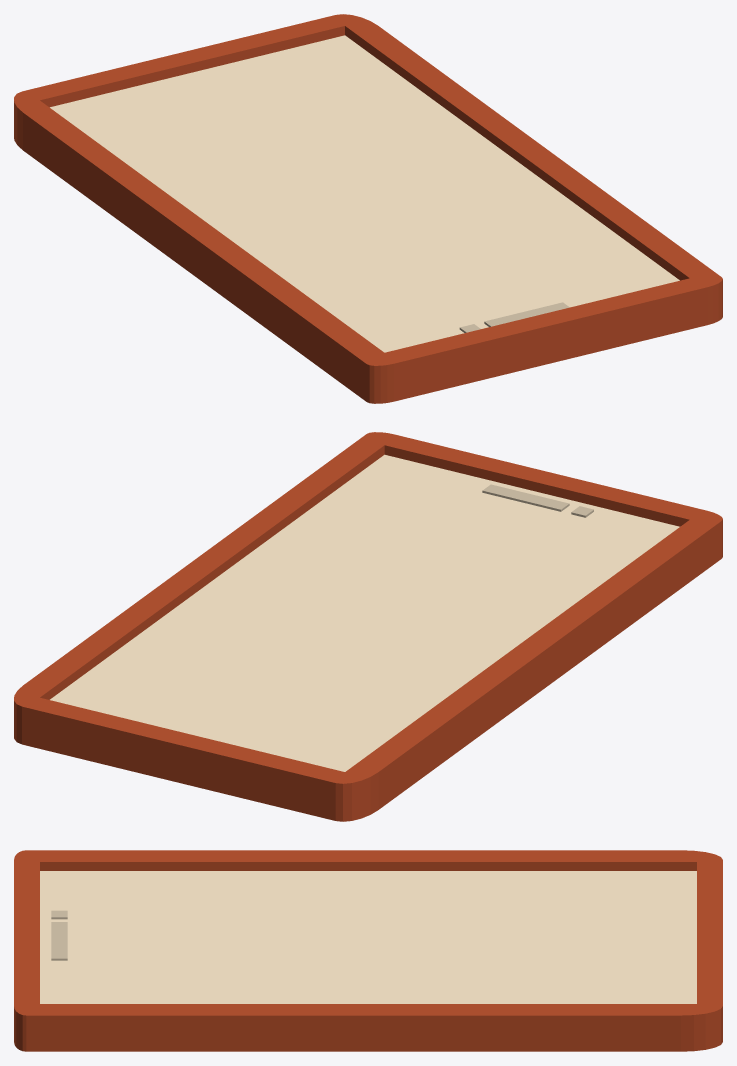
File: Cel.fbx
3 renders of one model, top to bottom at view 1: azimuth 30°, elevation 25°; view 2: azimuth 150°, elevation 25°; view 3: azimuth 270°, elevation 25°, orthographic. The views are drawn at different scales.
Parts seen in each view (by area): view 1: Cubo; view 2: Cubo; view 3: Cubo.
Boxes of the visible parts, x1,y1,x2,y2 form: Cubo: [14, 14, 722, 403]; Cubo: [14, 432, 722, 821]; Cubo: [14, 850, 722, 1051].
Bounding box in the file's own units: 766 × 78.24 × 1390.
